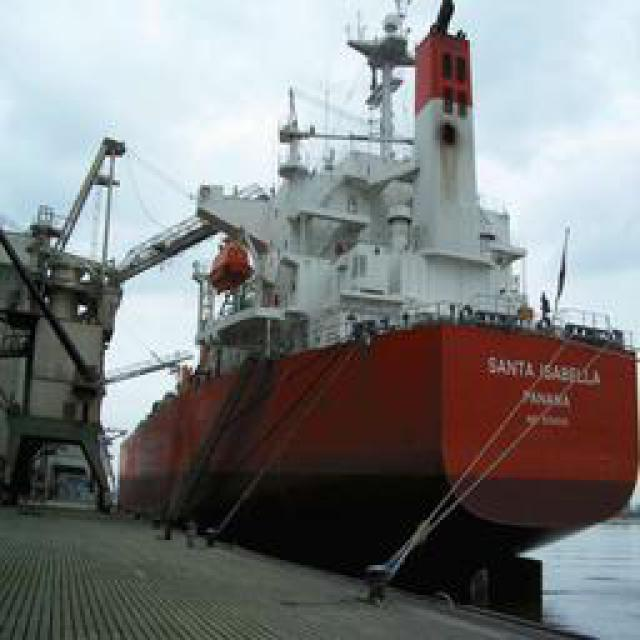Ship: (101, 1, 640, 599)
